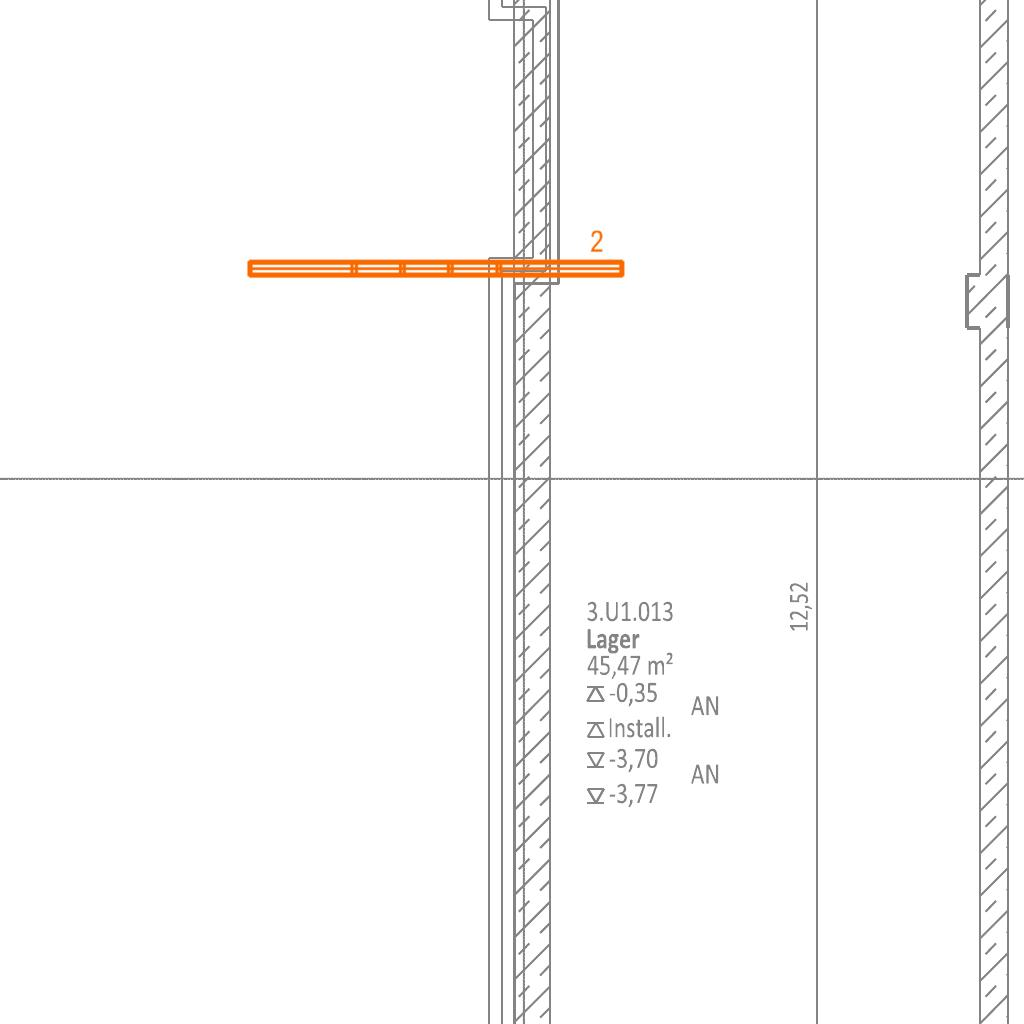Ambulanz_Pendelleuchte_LED: (242, 228, 629, 284)
